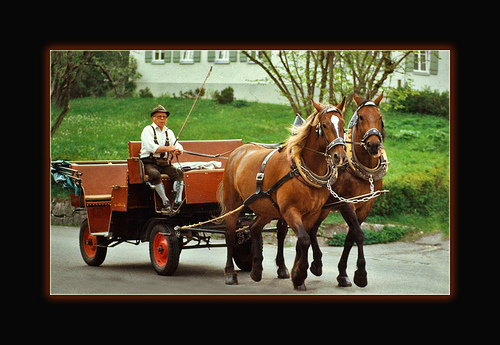horse: (218, 94, 349, 291), (320, 95, 388, 289)
